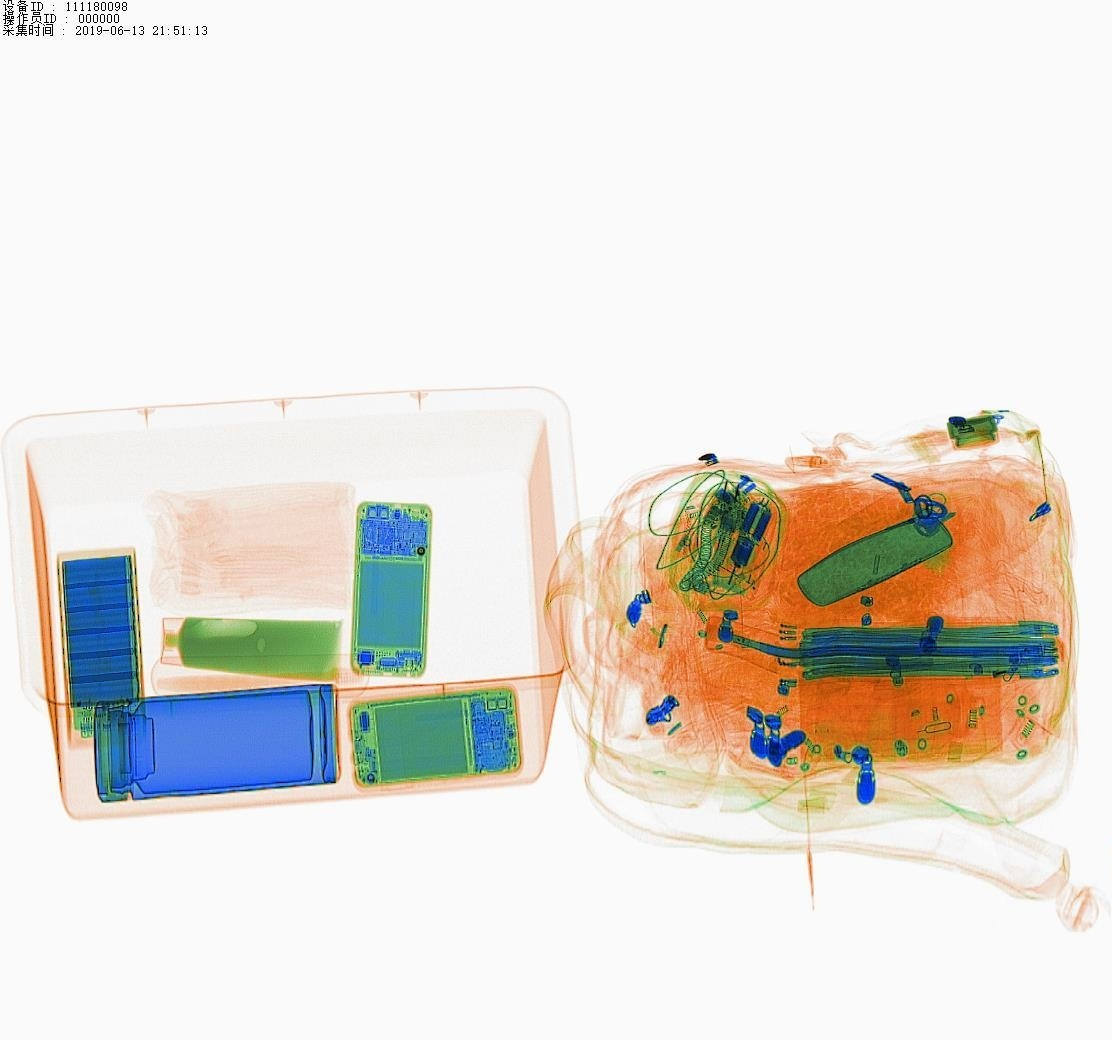NonmetallicFire: (930, 640, 1053, 710)
